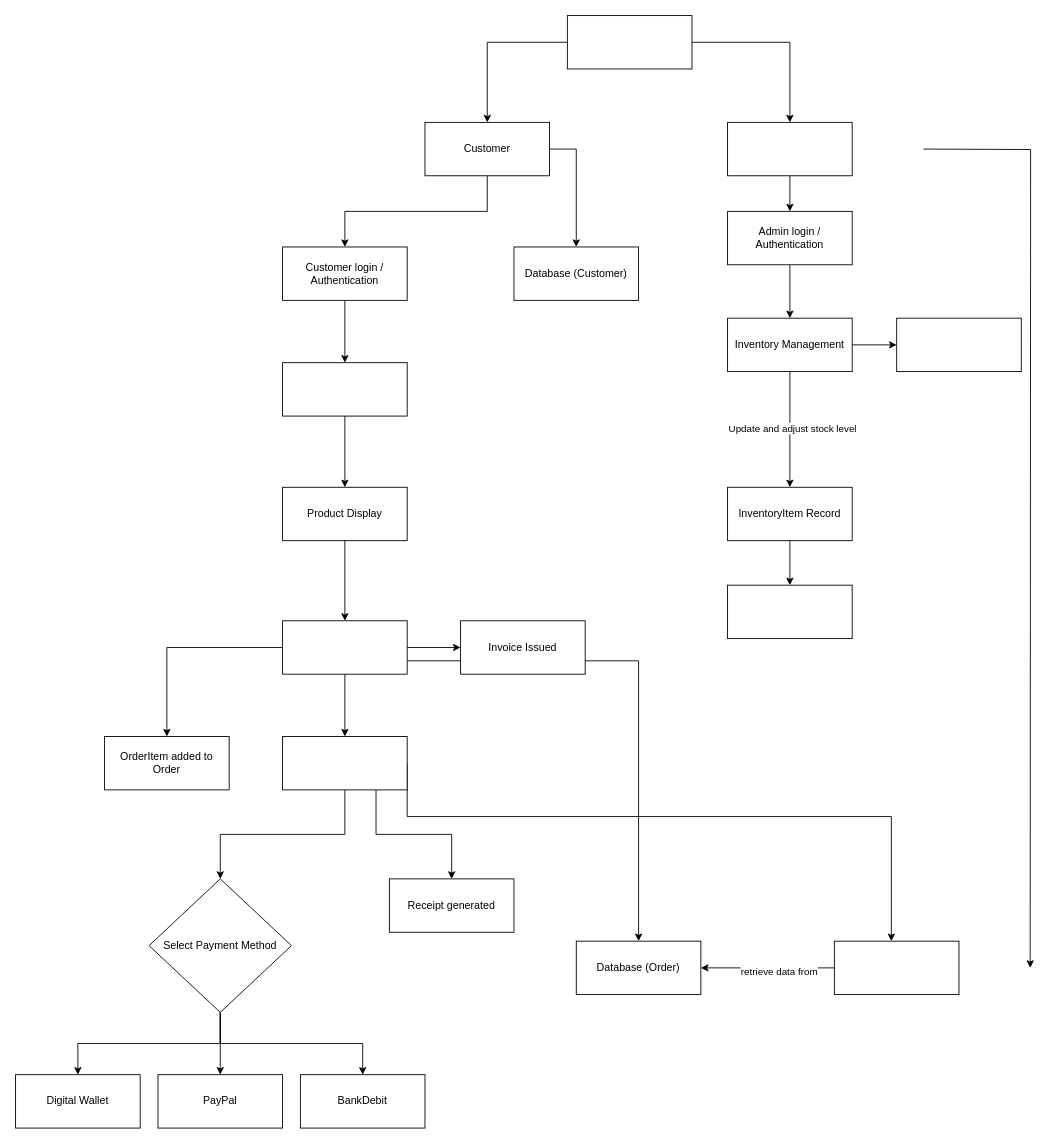
This 1054x1144 diagram has some shape labels left out. Here are the shapes that lost their labels. From the top down, the centre of each, then its label:
(x=629, y=42): User (Base Class)
(x=789, y=148): Admin
(x=958, y=344): Database (Product)
(x=344, y=389): Catalogue browsing
(x=789, y=611): Stock Level Updated
(x=344, y=647): Order Created
(x=344, y=763): Payment Initiated
(x=896, y=967): View customer invoices
